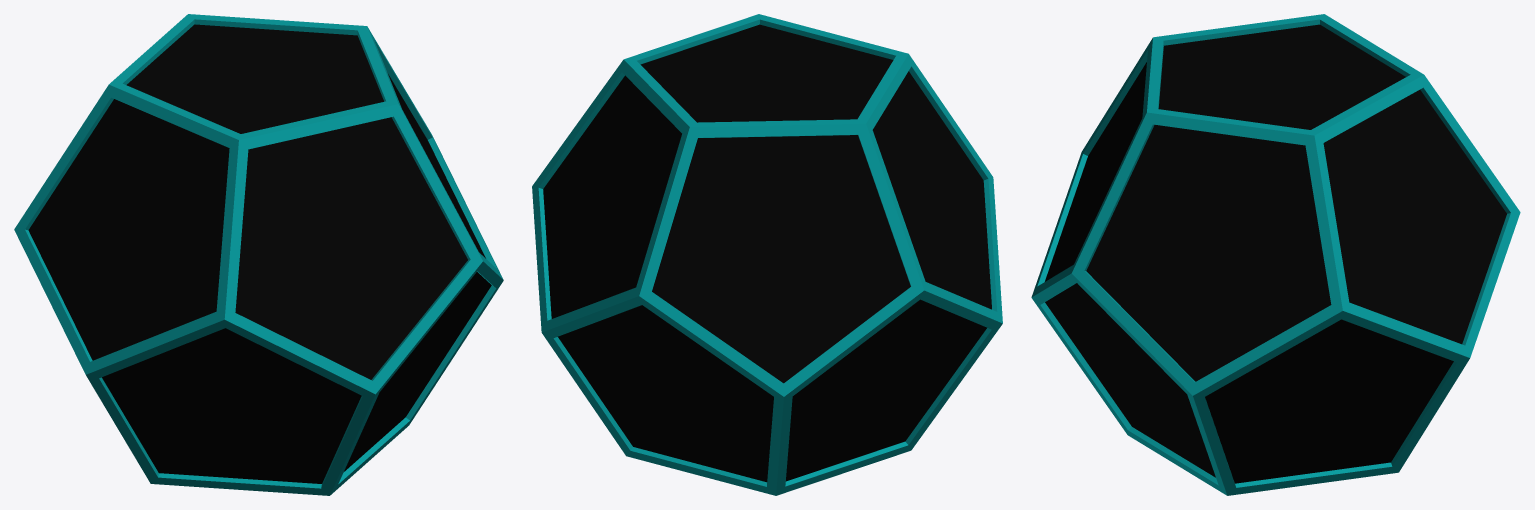
Rendered from SFI0210017.fbx.
3 views of the same model, side by side, from view 1: azimuth 30°, elevation 25°; view 2: azimuth 150°, elevation 25°; view 3: azimuth 270°, elevation 25° (orthographic). The views are drawn at different scales.
Visible parts, largest first — view 1: smSFI0210017; view 2: smSFI0210017; view 3: smSFI0210017.
Part boxes in pixels (x1,y1,x2,y2): smSFI0210017: (14, 14, 503, 495); smSFI0210017: (532, 14, 1002, 495); smSFI0210017: (1031, 14, 1520, 495).
Size of the model in its own units: 134 by 114 by 138.
